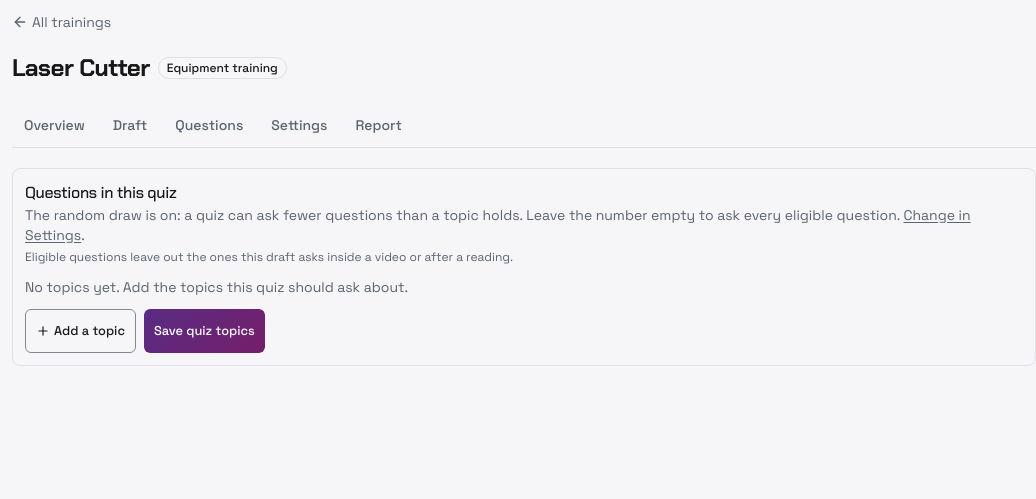
Test: BlueprintEditor › shows the server’s complaint beside the row it is about
The image size is (1036, 499).
Expected: the heading "Laser Cutter" is shown, [12,52,150,84]
Click the button "Add a topic". click: (80,331)
box: [25,309,136,353]
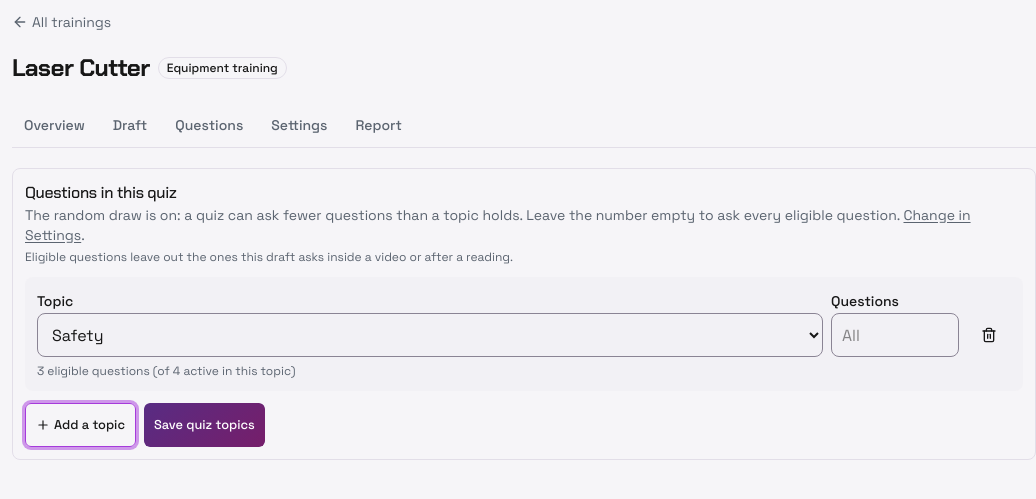
Type "9" into the field labelled "Questions". click: (895,335)
box: [831,313,959,357]
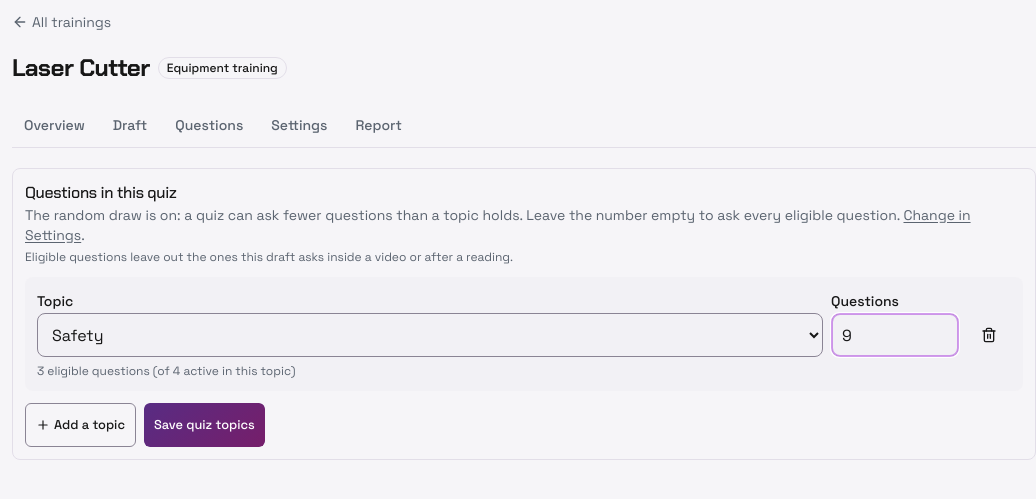
Click the button "Save quiz topics". click: (204,425)
box: [144,403,265,447]
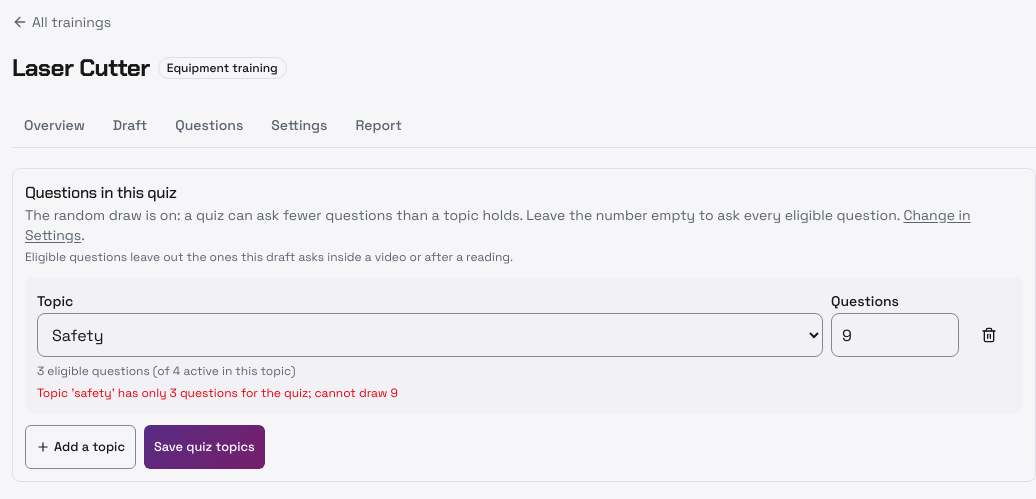
Expected: the text "Topic 'safety' has only 3 questions for the quiz; cannot draw 9" is shown, [37,385,398,401]
